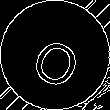O_NE: (24, 23, 86, 87)
